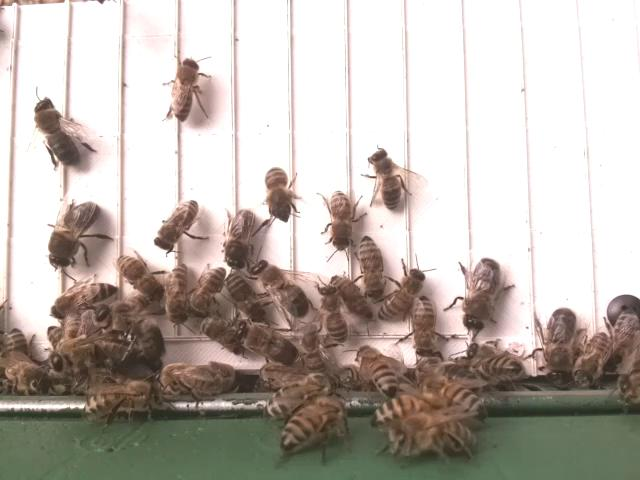Drone: (45, 197, 105, 272), (250, 258, 313, 322), (31, 96, 85, 168), (459, 257, 506, 335), (231, 321, 300, 367), (540, 304, 576, 388), (221, 206, 261, 276)
Worker: (277, 396, 345, 453), (83, 374, 166, 420), (111, 249, 169, 309), (158, 259, 201, 336), (311, 280, 356, 351), (374, 266, 427, 324), (47, 279, 120, 321), (316, 188, 361, 253), (153, 195, 202, 254), (167, 54, 206, 128), (159, 363, 228, 404), (353, 342, 398, 401), (368, 145, 407, 212), (354, 232, 389, 302), (571, 325, 609, 388), (262, 163, 301, 224), (189, 260, 224, 327), (411, 293, 440, 355)
